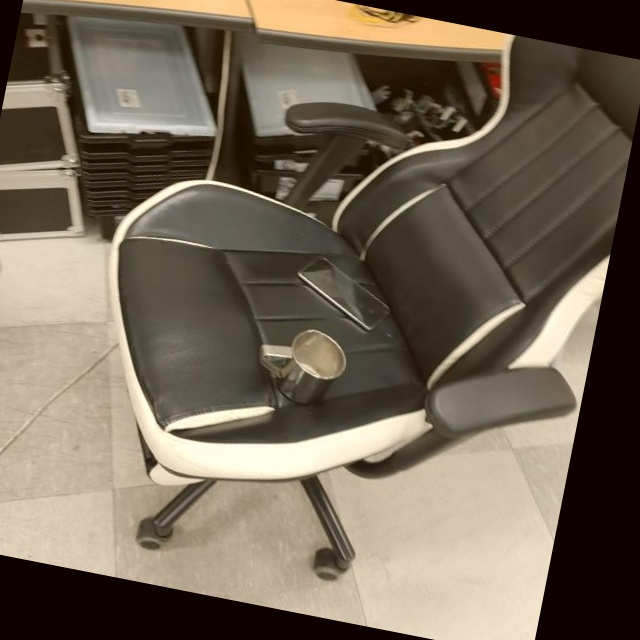cup: (252, 318, 354, 411)
phone: (288, 248, 400, 334)
